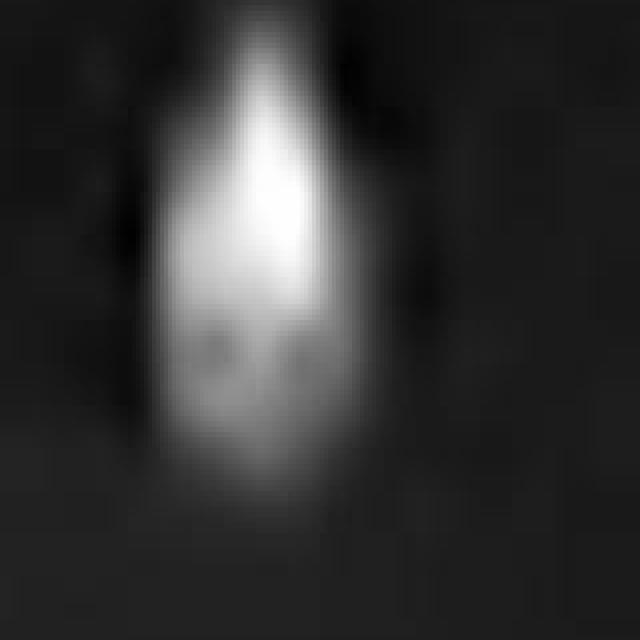person: (146, 6, 383, 481)
